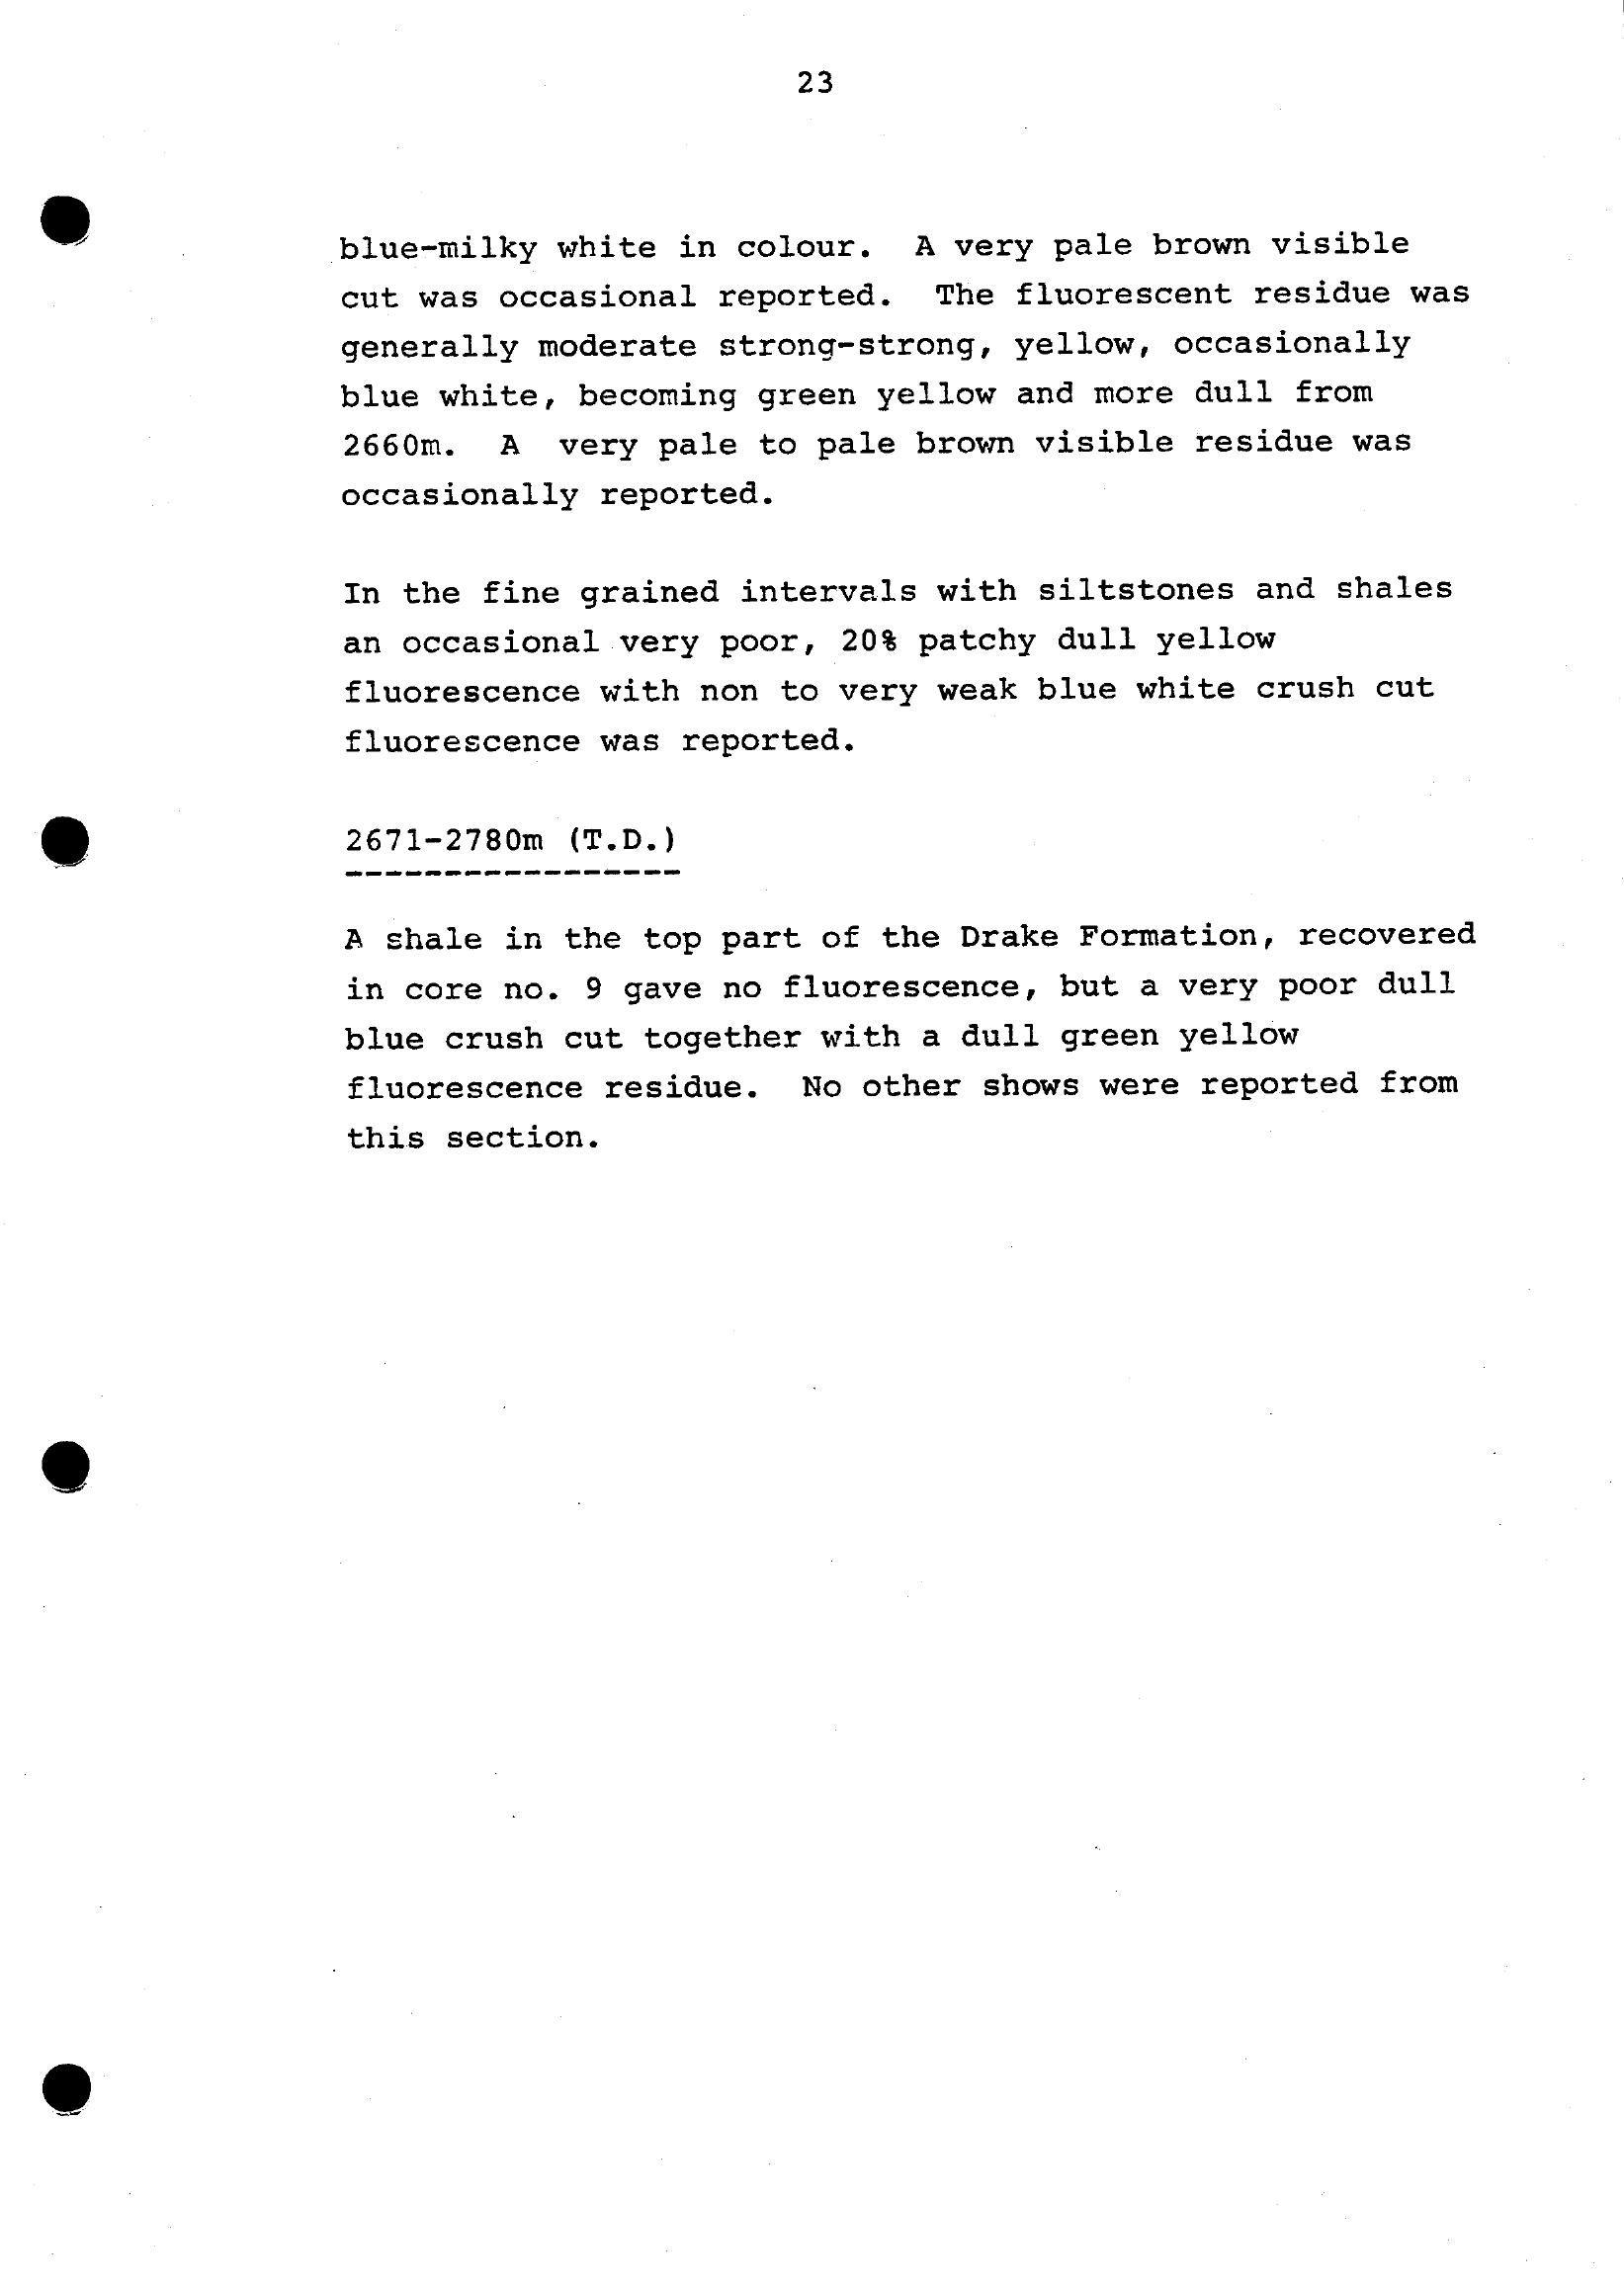text: (292, 179, 1526, 1221)
